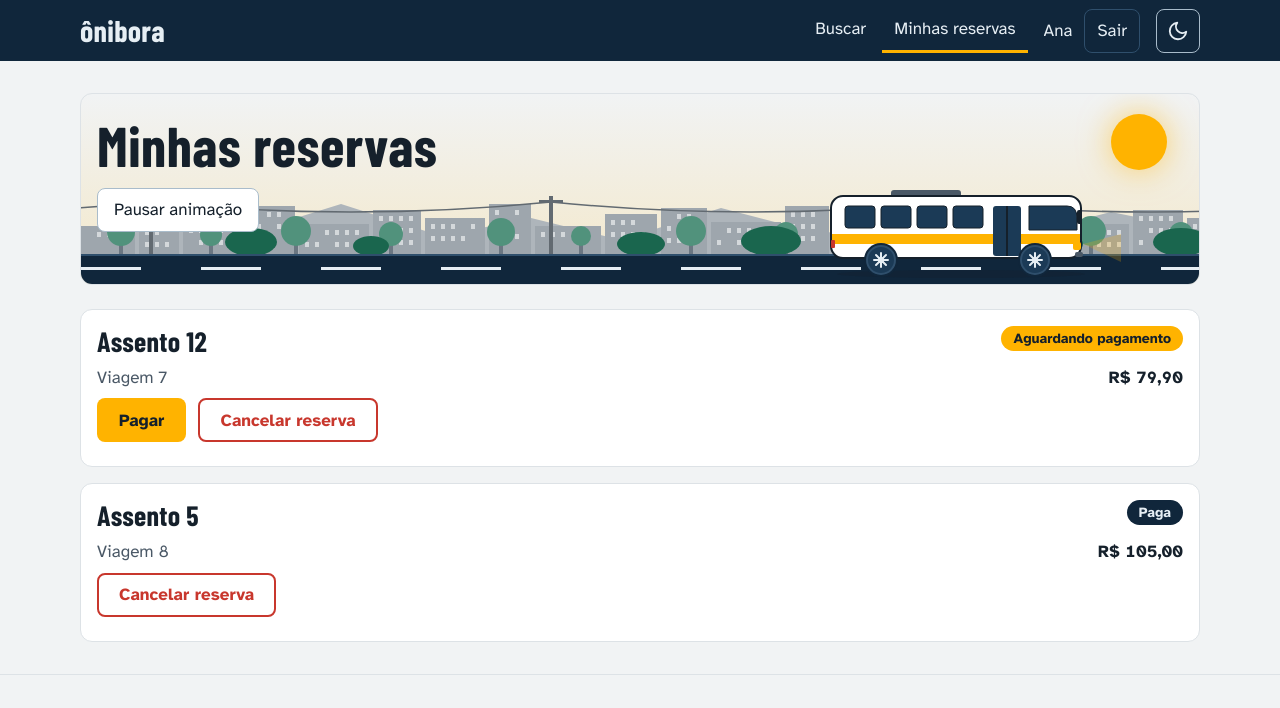
Test: MyReservationsPage: cancelar › confirmar faz um POST do cancelamento e a linha passa a Cancelada, sem recarregar a lista
Click the 2nd button "Cancelar reserva" at (187, 595), box [97,573,276,617]
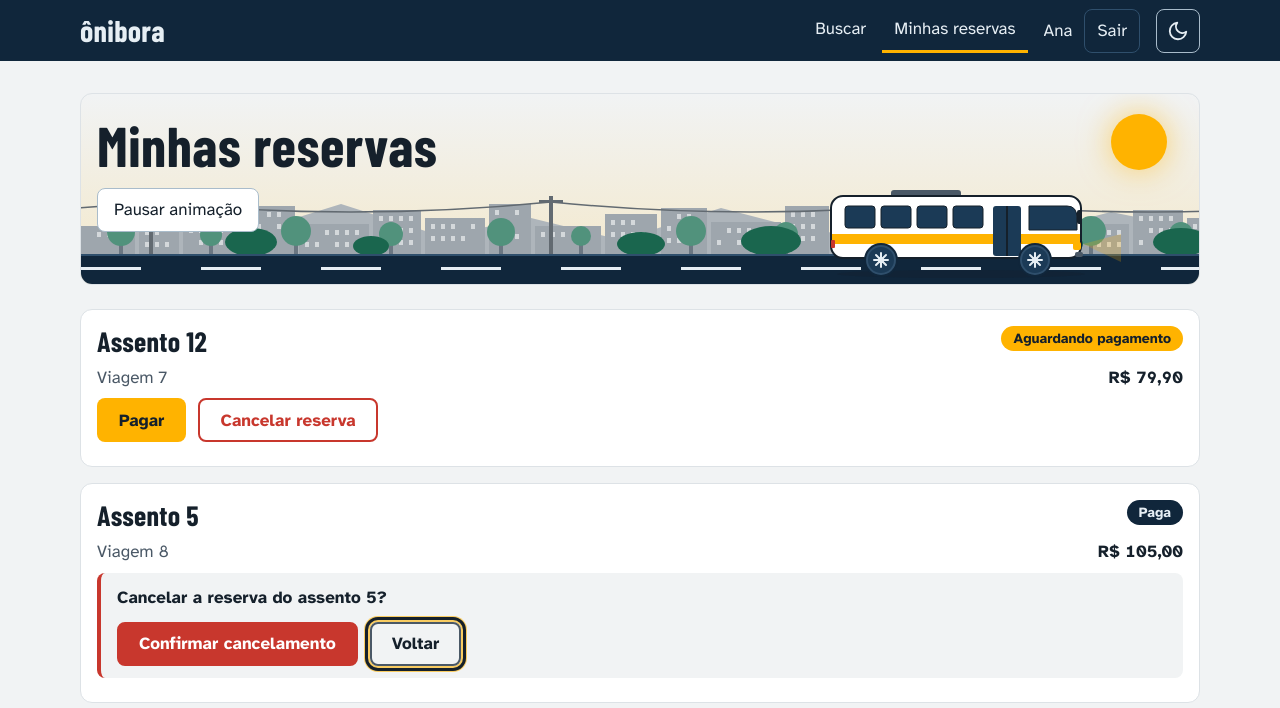
Click the button "Confirmar cancelamento" at (237, 644), box [117,622,358,666]
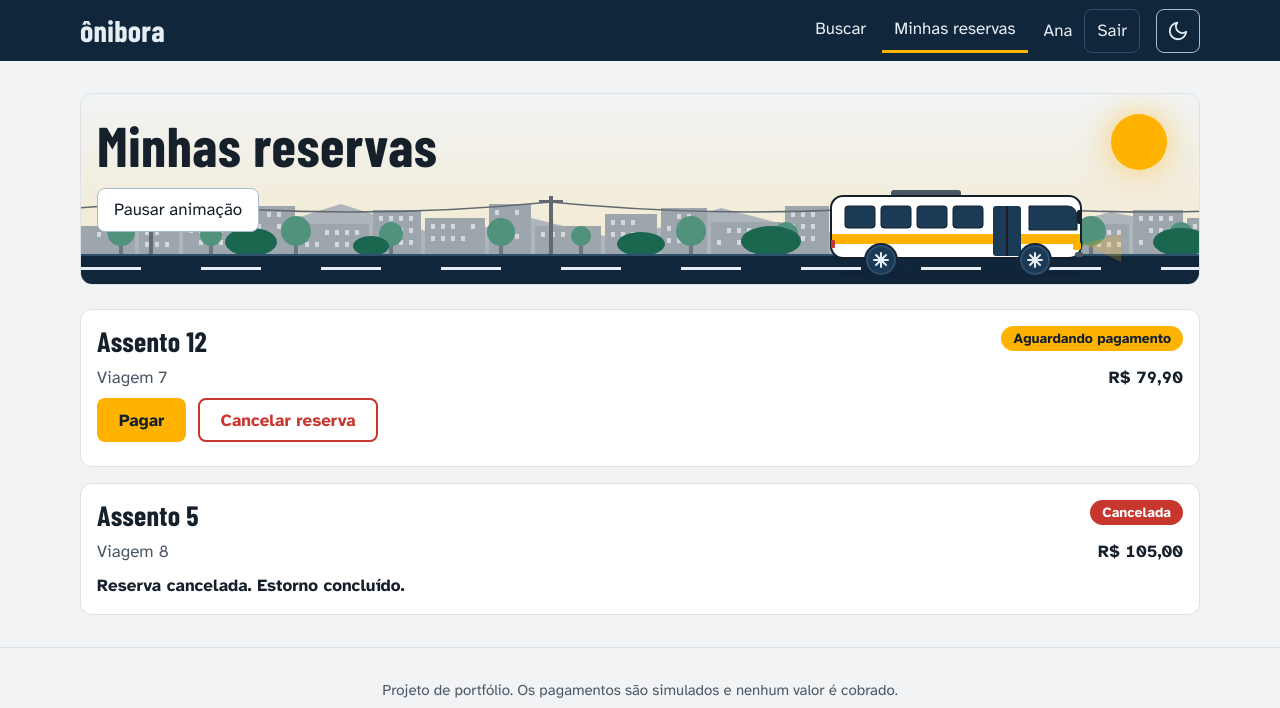
Result: the text "Cancelada" is shown at [1090,500,1183,525]
Result: the button "Confirmar cancelamento" is gone
